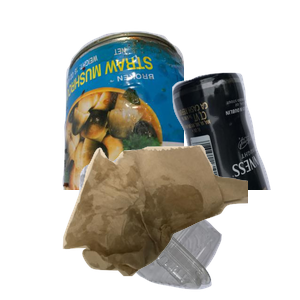glass: (106, 70, 300, 250)
metal: (60, 28, 300, 208)
plastic: (75, 147, 289, 300)
trash: (60, 142, 300, 300)
